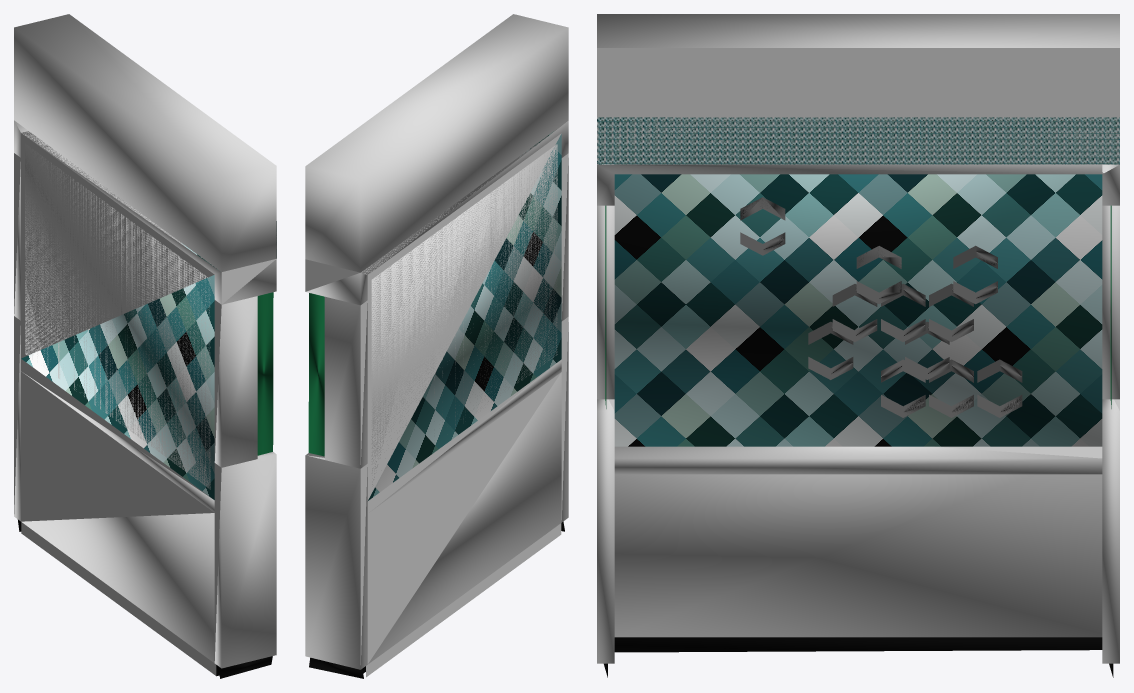
File: ABC-69.obj
The picture shows the model from 3 angles, left to right: view 1: azimuth 30°, elevation 25°; view 2: azimuth 150°, elevation 25°; view 3: azimuth 270°, elevation 25°; orthographic projection. The views are drawn at different scales.
Size of the model in its own units: 2.3 by 20 by 15.
